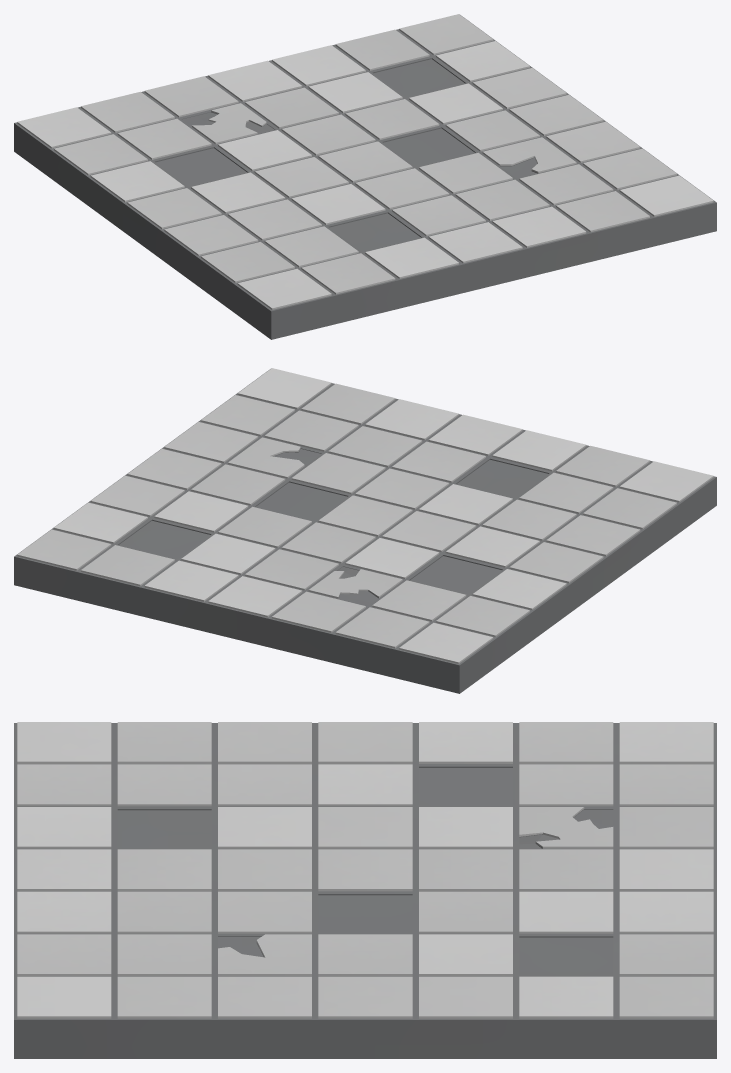
File: tile_floor_1_damaged_1.glb
The picture shows the model from 3 angles, top to bottom: view 1: azimuth 30°, elevation 25°; view 2: azimuth 150°, elevation 25°; view 3: azimuth 270°, elevation 25°; orthographic projection. The views are drawn at different scales.
Parts seen in each view (by area): view 1: tile_floor_1_damaged_1; view 2: tile_floor_1_damaged_1; view 3: tile_floor_1_damaged_1.
Part boxes in pixels (left/top/right/bottom): tile_floor_1_damaged_1: left=14, top=14, right=716, bottom=339; tile_floor_1_damaged_1: left=14, top=368, right=716, bottom=693; tile_floor_1_damaged_1: left=14, top=722, right=716, bottom=1058.
Size of the model in its own units: 2 by 0.1294 by 2.
Materials: 1 (1 with a texture image).
